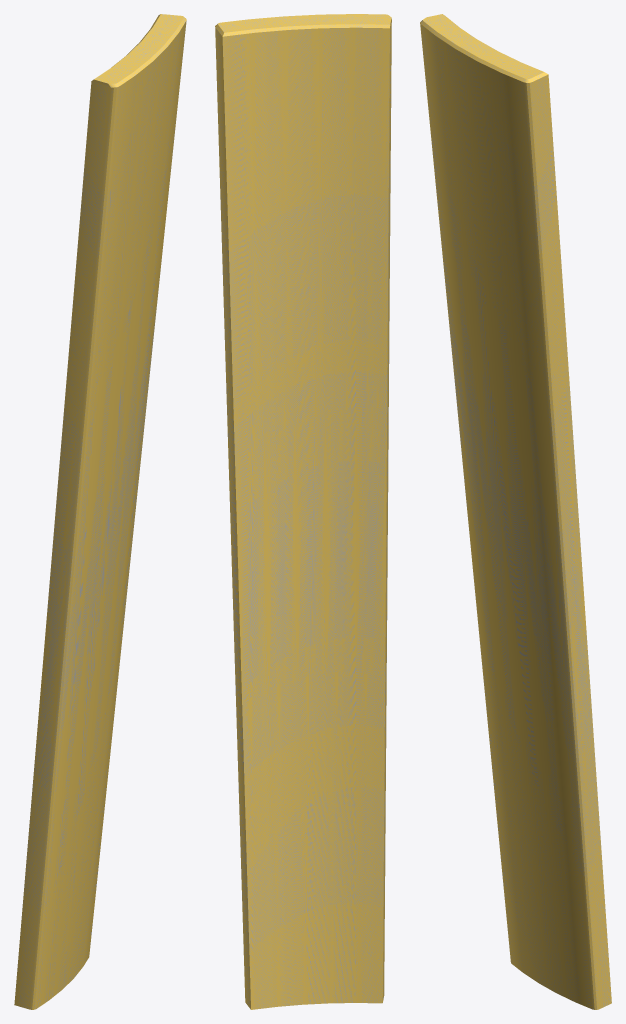
Rendered from original-18.obj.
3 renders of one model, left to right at view 1: azimuth 30°, elevation 25°; view 2: azimuth 150°, elevation 25°; view 3: azimuth 270°, elevation 25°, orthographic. The views are drawn at different scales.
Visible parts, largest first — view 1: #ID132; view 2: #ID132; view 3: #ID132.
Part boxes in pixels (x1,y1,x2,y2): #ID132: [14, 14, 186, 1009]; #ID132: [215, 14, 391, 1009]; #ID132: [420, 14, 611, 1009].
Size of the model in its own units: 0.192 by 1.02 by 0.1852.
